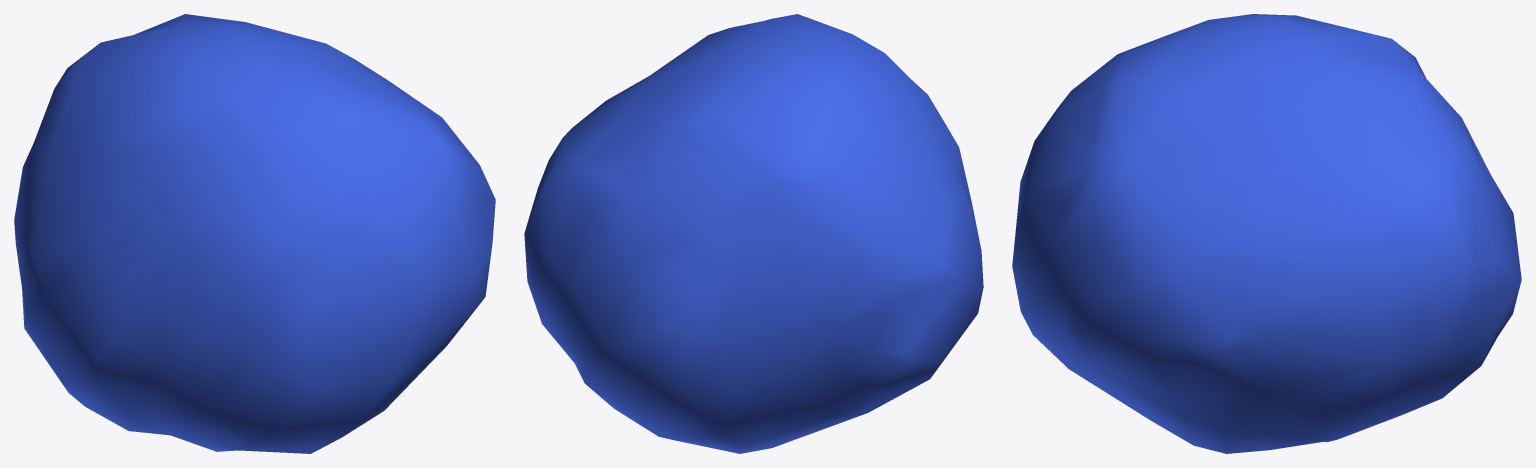
Rendered from BluTackBlob.fbx.
3 views of the same model, side by side, from view 1: azimuth 30°, elevation 25°; view 2: azimuth 150°, elevation 25°; view 3: azimuth 270°, elevation 25° (orthographic). The views are drawn at different scales.
Visible parts, largest first — view 1: Icosphere; view 2: Icosphere; view 3: Icosphere.
Boxes of the visible parts, x1,y1,x2,y2 form: Icosphere: (14, 14, 495, 453); Icosphere: (524, 14, 983, 453); Icosphere: (1012, 14, 1521, 453).
Bounding box in the file's own units: 212 × 200 × 175.
